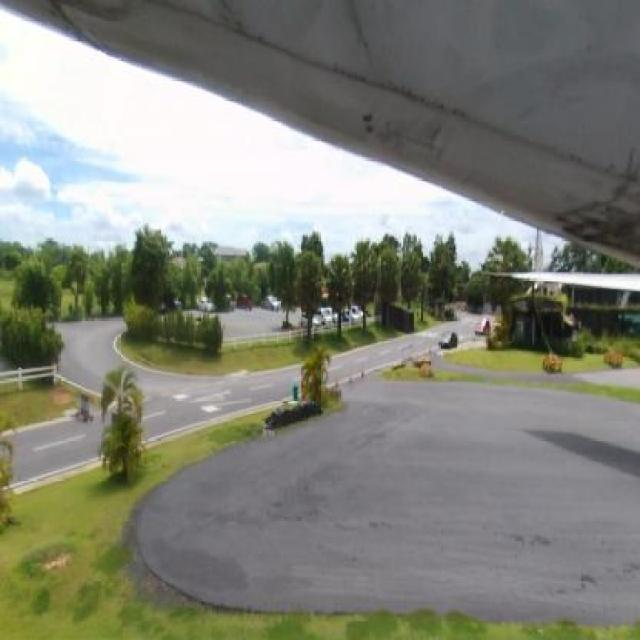Missing-Rivet: (328, 58, 469, 119)
Rust: (538, 125, 640, 262), (356, 101, 455, 168)
